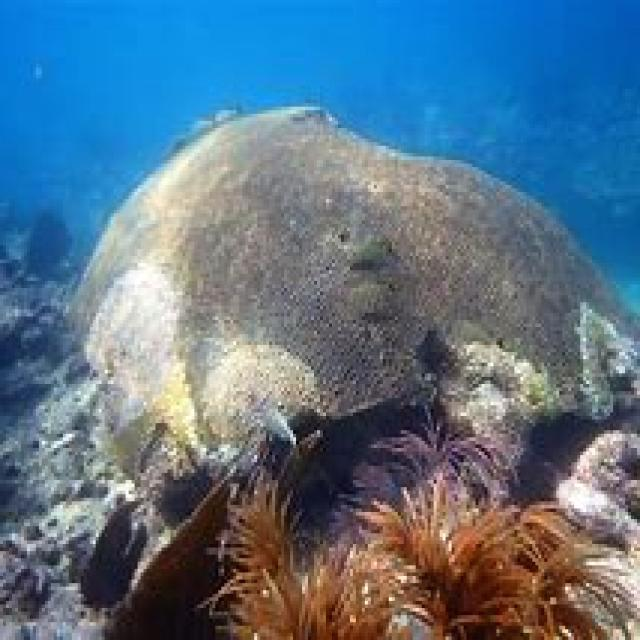Coral: (68, 105, 640, 526)
